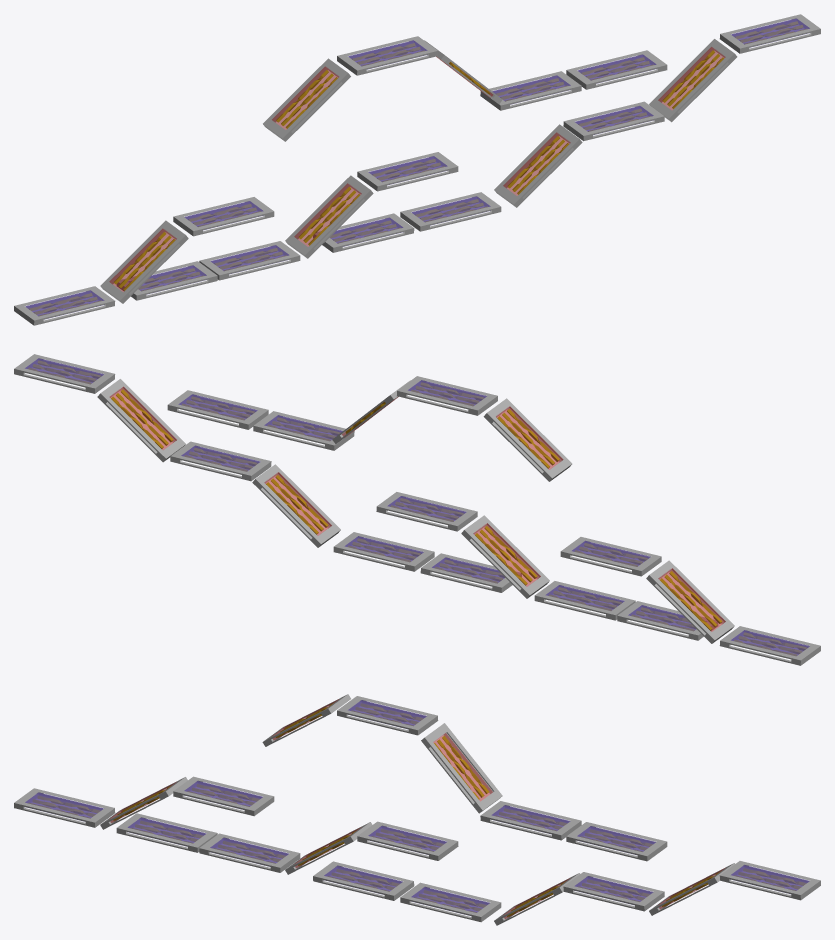
The model's file is RKI2TJW.fbx.
3 views of the same model, one above another, from view 1: azimuth 30°, elevation 25°; view 2: azimuth 150°, elevation 25°; view 3: azimuth 330°, elevation 25° (orthographic).
Visible parts, largest first — view 1: pCube10, pCube15, pCube23, pCube16, pCube25, pCube18, pCube24, pCube12, pCube20, pCube11, pCube27, pCube17 (+6 smaller); view 2: pCube16, pCube10, pCube15, pCube25, pCube23, pCube20, pCube24, pCube12, pCube27, pCube11, pCube17, pCube18 (+6 smaller); view 3: pCube19, pCube14, pCube20, pCube24, pCube12, pCube26, pCube18, pCube11, pCube21, pCube17, pCube27, pCube22 (+6 smaller).
Boxes of the visible parts, x1,y1,x2,y2 form: pCube10: (100, 220, 188, 303); pCube15: (285, 175, 373, 258); pCube23: (494, 124, 582, 207); pCube16: (263, 58, 350, 141); pCube25: (649, 39, 737, 122); pCube18: (357, 152, 458, 191); pCube24: (563, 101, 664, 141); pCube12: (173, 197, 274, 236); pCube20: (400, 192, 501, 231); pCube11: (14, 286, 115, 325); pCube27: (719, 14, 820, 53); pCube17: (337, 36, 437, 75); pCube16: (483, 398, 572, 481); pCube10: (646, 560, 734, 643); pCube15: (461, 515, 549, 598); pCube25: (97, 379, 185, 462); pCube23: (252, 464, 340, 547); pCube20: (333, 532, 434, 571); pCube24: (170, 441, 271, 481); pCube12: (560, 537, 661, 576); pCube27: (14, 354, 115, 393); pCube11: (719, 626, 820, 665); pCube17: (397, 376, 497, 415); pCube18: (376, 492, 477, 531); pCube19: (421, 723, 502, 813); pCube14: (199, 833, 300, 872); pCube20: (400, 882, 501, 922); pCube24: (563, 872, 664, 911); pCube12: (173, 776, 274, 816); pCube26: (566, 822, 667, 861); pCube18: (357, 821, 458, 860); pCube11: (14, 788, 115, 827); pCube21: (313, 861, 414, 900); pCube17: (337, 696, 438, 735); pCube27: (719, 861, 820, 900); pCube22: (480, 801, 581, 840).
Size of the model in its own units: 306 by 65.69 by 13.63.
